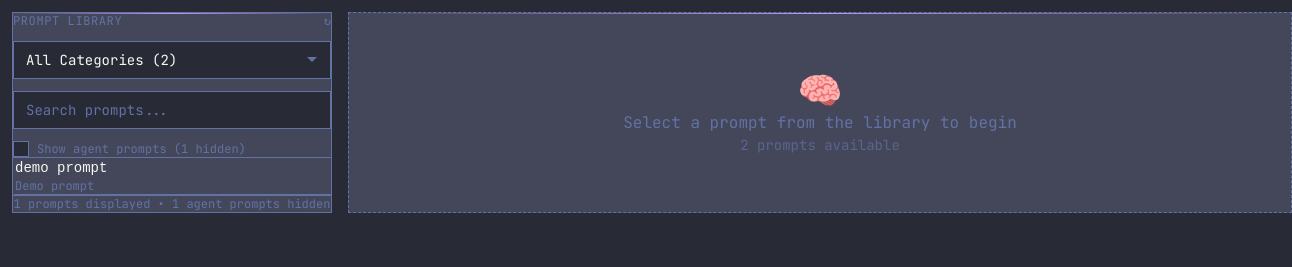
it: ThinktankScreen › hides agent/tool prompts by default and allows showing them
Expected: the button "demo prompt Demo prompt" is shown, [13,158,331,195]
Expected: the button "conductor setup" is not shown
// Toggle shows agent prompts
Click the checkbox labelled "Show agent prompts (1 hidden)".
click(21, 149)  # box [13,141,29,157]
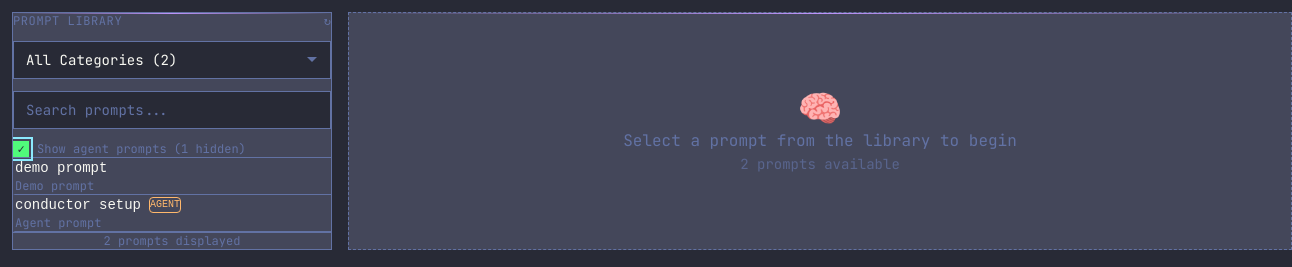
Now the button "conductor setup AGENT Agent prompt" is shown, box [13,195,331,232]
